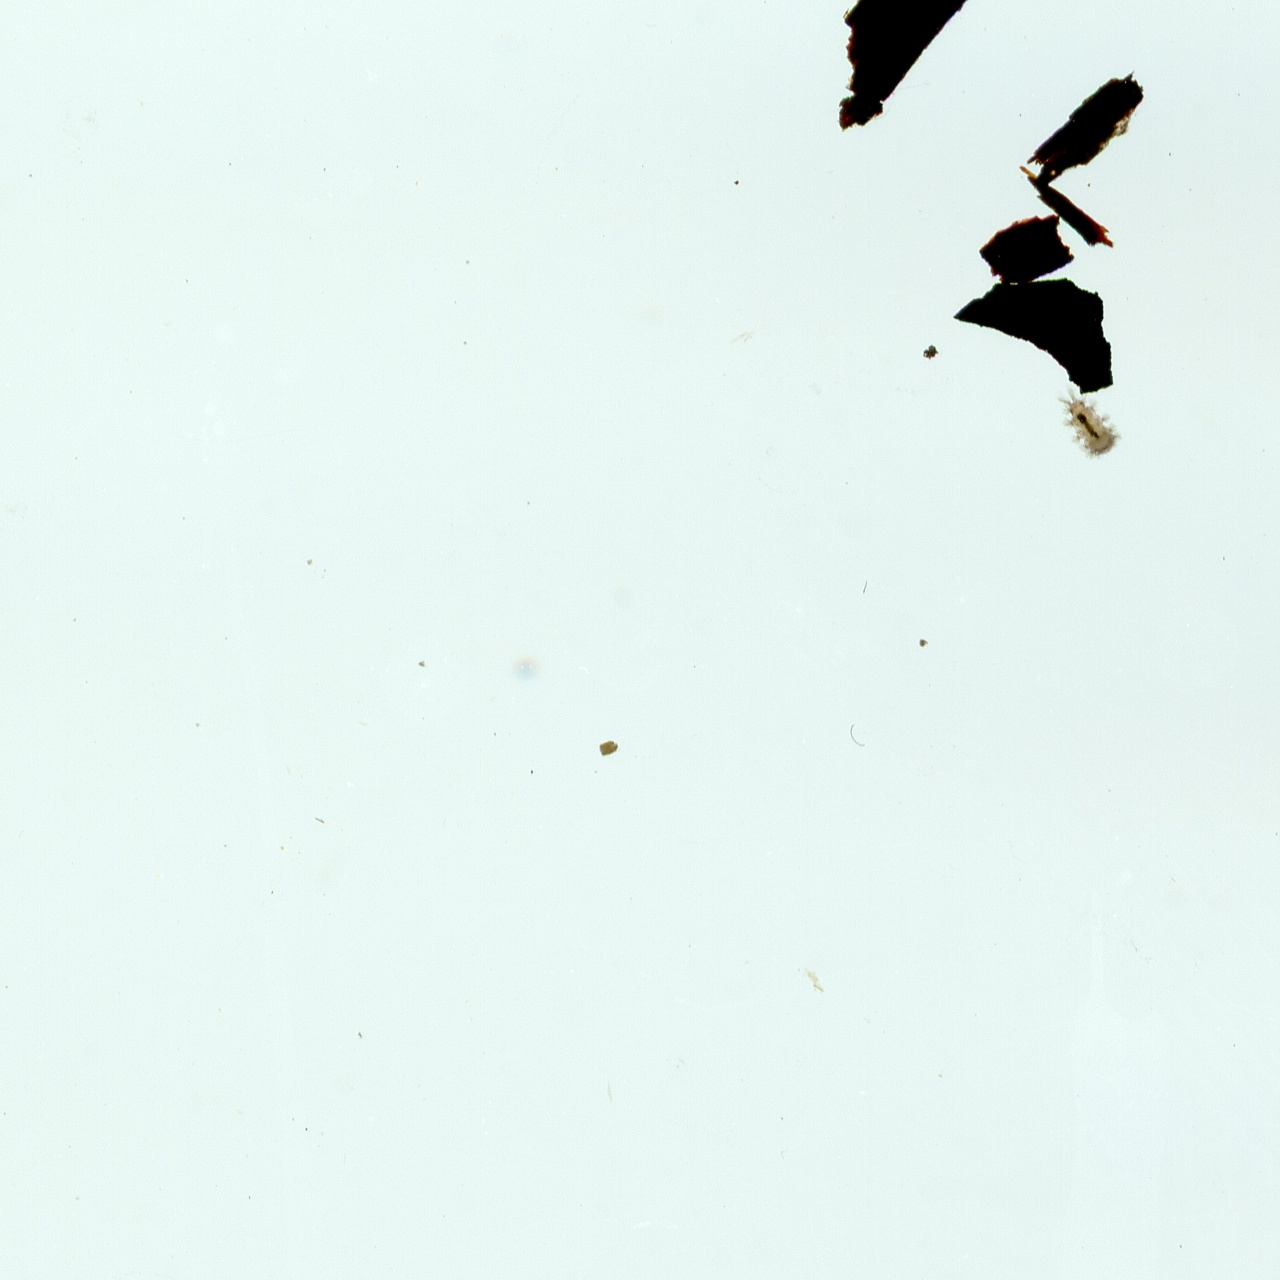arthropod: (1039, 366, 1136, 472)
